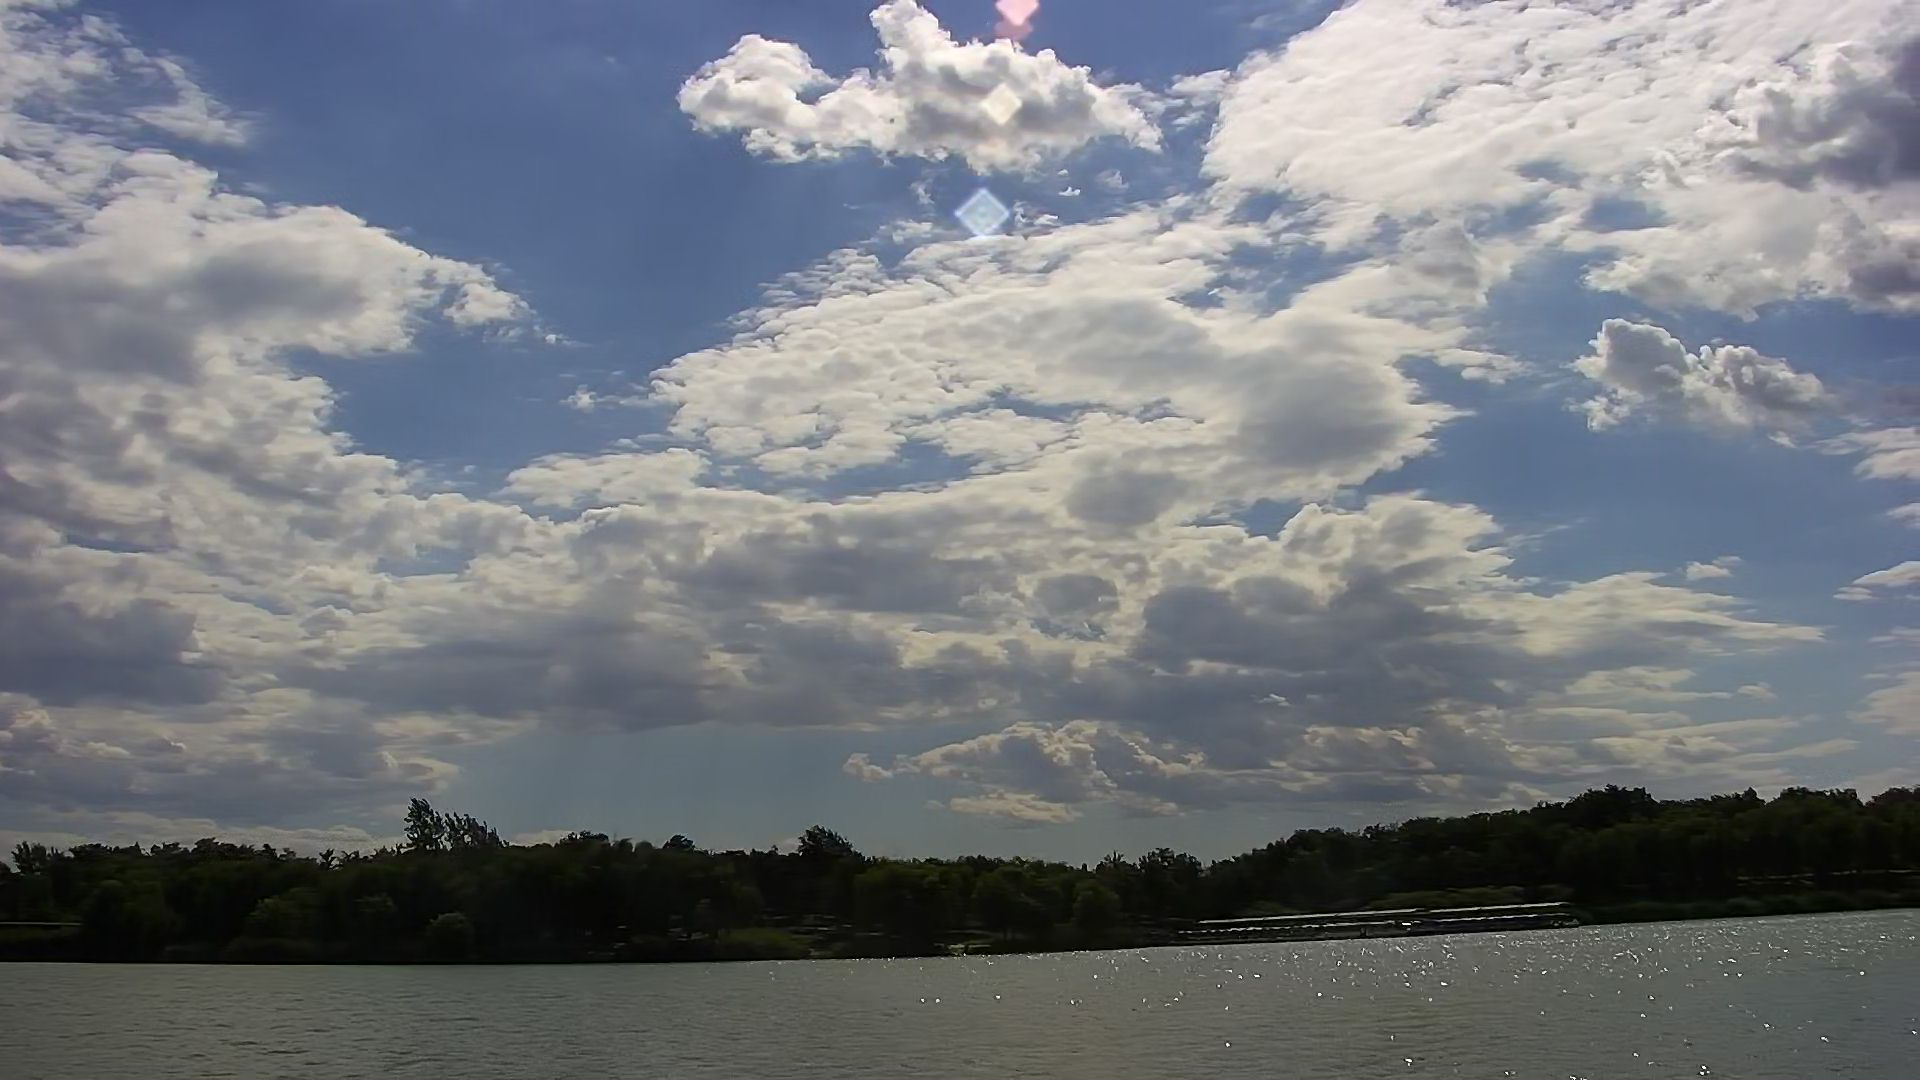harbor: (1162, 889, 1601, 949)
